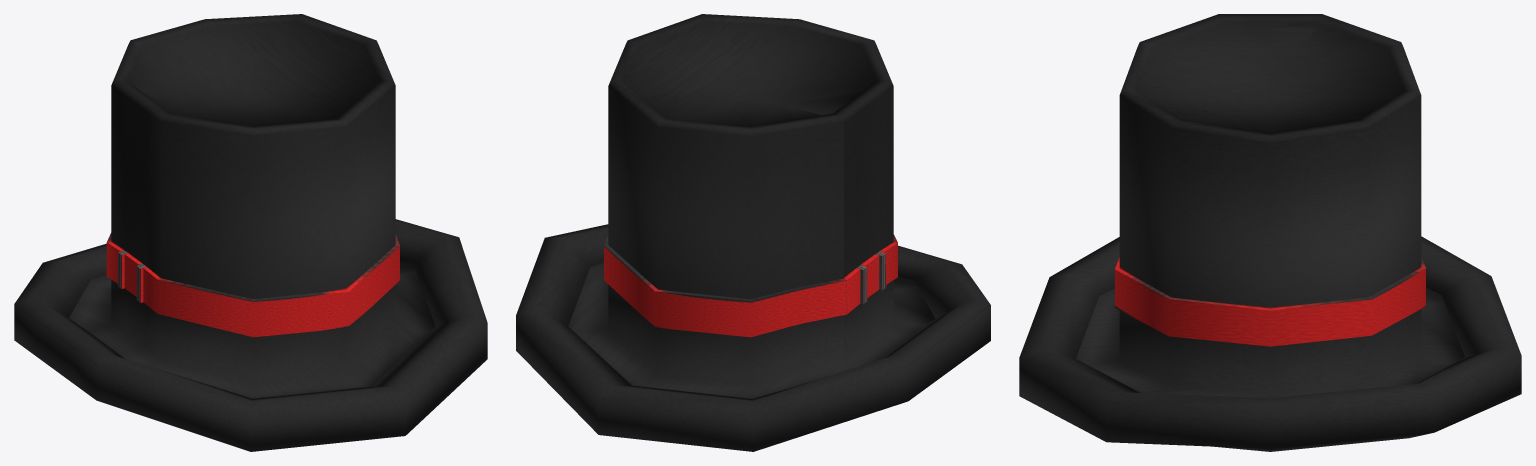
The model's file is Top hat.fbx.
3 views of the same model, side by side, from view 1: azimuth 30°, elevation 25°; view 2: azimuth 150°, elevation 25°; view 3: azimuth 270°, elevation 25° (orthographic). The views are drawn at different scales.
Parts seen in each view (by area): view 1: Top_Hat; view 2: Top_Hat; view 3: Top_Hat.
Boxes of the visible parts, x1,y1,x2,y2 form: Top_Hat: (14,14,487,451); Top_Hat: (516,14,990,451); Top_Hat: (1019,14,1521,451).
Bounding box in the file's own units: 1.47 × 1.02 × 1.49.
1 material, 1 textured.
